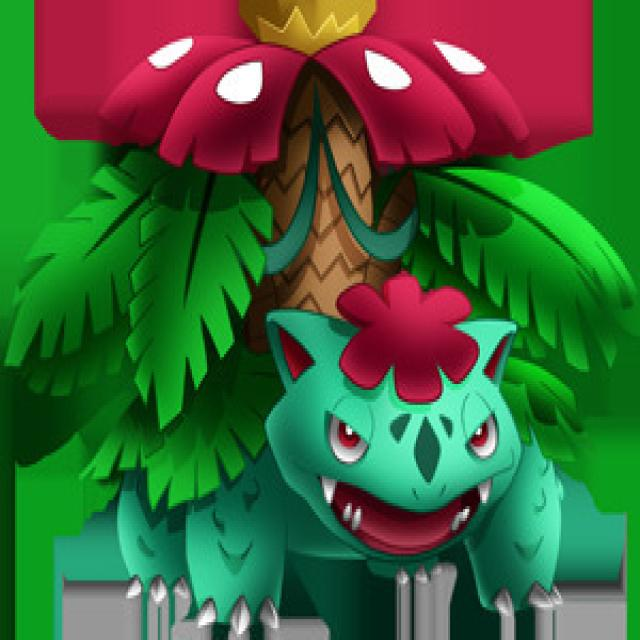Venusaur: (118, 0, 564, 614)
